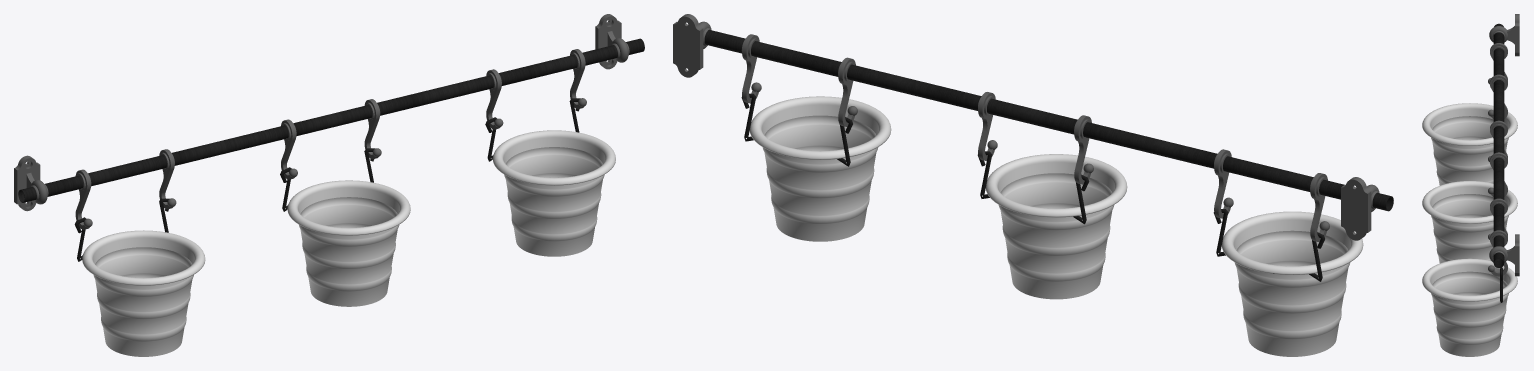
File: 004 - stand divari ikea meshki.glb
The picture shows the model from 3 angles, left to right: view 1: azimuth 30°, elevation 25°; view 2: azimuth 150°, elevation 25°; view 3: azimuth 270°, elevation 25°; orthographic projection. The views are drawn at different scales.
Visible parts, largest first — view 1: Group#61 [88003] (×3), Group#51 [88017], Group#2 [86700] (×2), Group#44 [86724]; view 2: Group#61 [88003] (×3), Group#51 [88017], Group#2 [86700] (×2), Group#44 [86724] (×3), Group#39 [86712] (×3); view 3: Group#61 [88003] (×3), Group#51 [88017], Group#39 [86712] (×3), Group#44 [86724] (×3), Group#2 [86700] (×2), Group#4 [86698] (×2), Group#3 [86699] (×2), Group#37 [81081].
Part boxes in pixels (x1,y1,x2,y2): Group#61 [88003] (×3): (82,130,615,356); Group#51 [88017]: (18,38,644,202); Group#2 [86700] (×2): (14,14,621,211); Group#44 [86724]: (486,69,501,129); Group#61 [88003] (×3): (749,96,1363,356); Group#51 [88017]: (687,24,1393,211); Group#2 [86700] (×2): (673,14,1371,240); Group#44 [86724] (×3): (838,57,1327,241); Group#39 [86712] (×3): (741,34,1231,218); Group#61 [88003] (×3): (1422,103,1517,356); Group#51 [88017]: (1493,23,1504,267); Group#39 [86712] (×3): (1490,74,1507,276); Group#44 [86724] (×3): (1490,43,1507,236); Group#2 [86700] (×2): (1515,14,1519,276); Group#4 [86698] (×2): (1489,26,1507,262); Group#3 [86699] (×2): (1507,26,1514,264); Group#37 [81081]: (1500,267,1502,302).
Size of the model in its own units: 0.8 by 0.2248 by 0.1405.
Materials: 5 (1 with a texture image).
